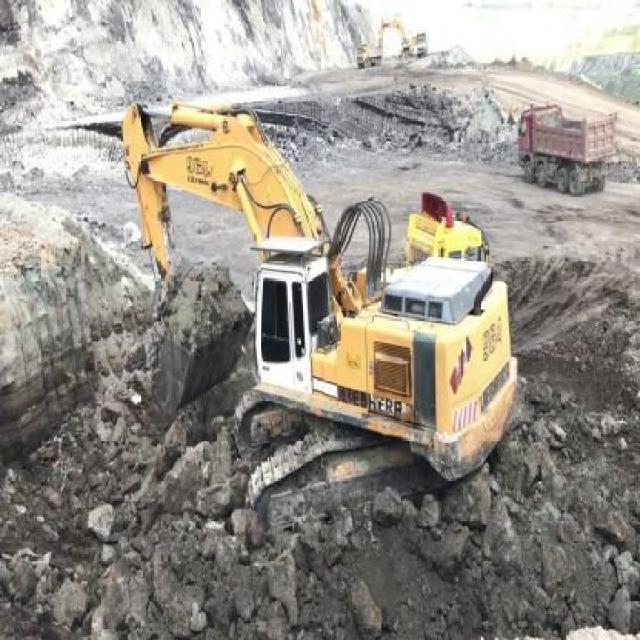Dump Truck: (518, 99, 614, 196), (356, 43, 384, 68)
Excavator: (118, 95, 519, 514), (379, 11, 415, 55)
